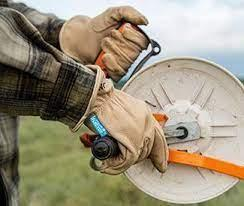gloves: (70, 64, 170, 177), (59, 5, 151, 83)
